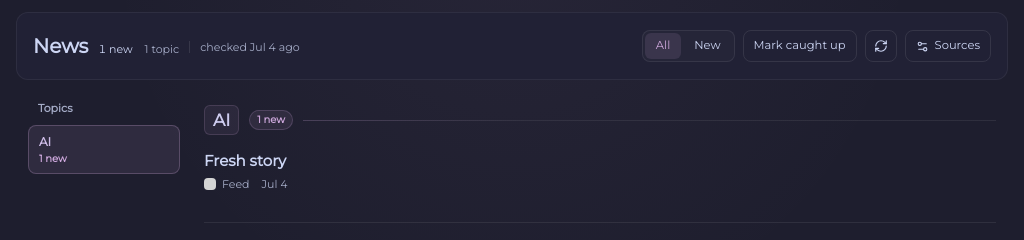
Test: NewsTab mark-all-seen › bumps the marker via the API and re-splits the page immediately
Expected: the 2nd text "1 new" is shown, [249,110,293,130]
Click the button "Mark caught up" at coordinates (800, 46), box [743,30,857,62]
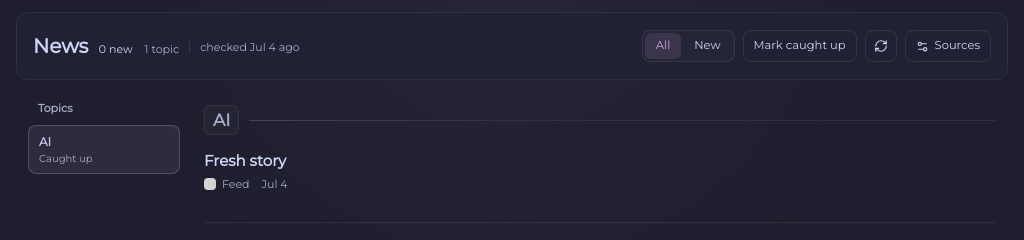
Now the text "1 new" is gone
